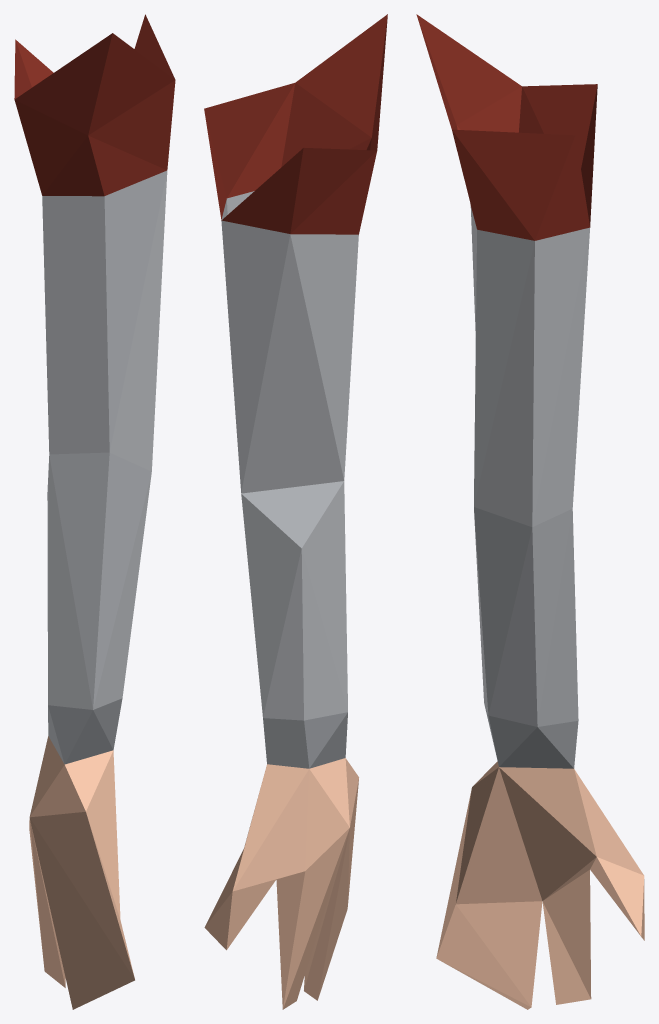
The model's file is ArmL.obj.
The picture shows the model from 3 angles, left to right: view 1: azimuth 30°, elevation 25°; view 2: azimuth 150°, elevation 25°; view 3: azimuth 270°, elevation 25°; orthographic projection. The views are drawn at different scales.
Size of the model in its own units: 0.1471 by 0.9071 by 0.19.
Materials: 1 (1 with a texture image).
